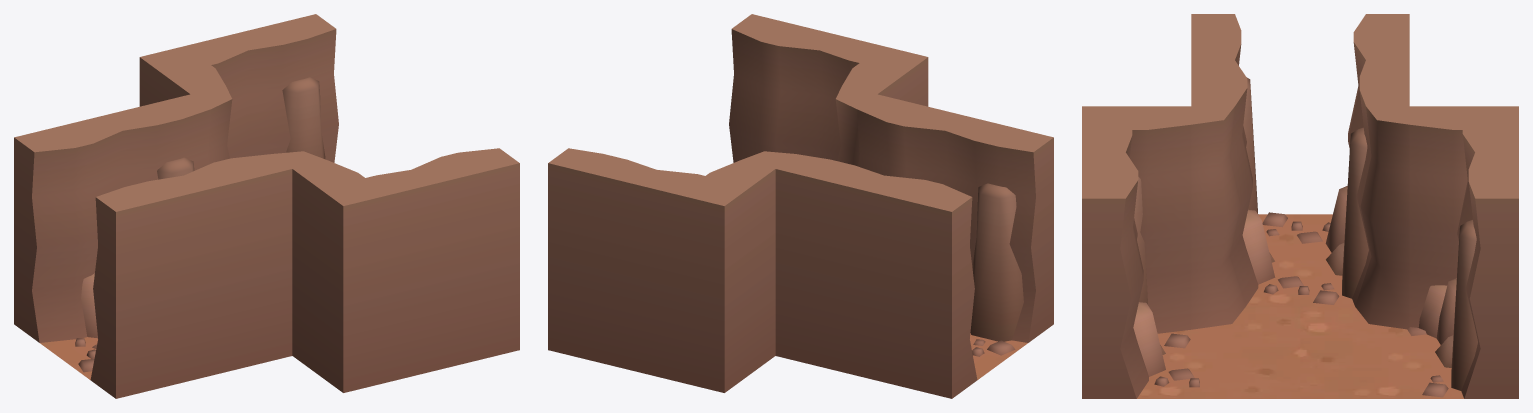
File: kenney-modular-cave-corridor.glb
3 renders of one model, left to right at view 1: azimuth 30°, elevation 25°; view 2: azimuth 150°, elevation 25°; view 3: azimuth 270°, elevation 25°, orthographic. The views are drawn at different scales.
Visible parts, largest first — view 1: corridor-transition; view 2: corridor-transition; view 3: corridor-transition.
Part boxes in pixels (x1,y1,x2,y2): corridor-transition: (14,14,519,398); corridor-transition: (548,14,1053,398); corridor-transition: (1082,14,1518,398).
Bounding box in the file's own units: 8 × 4.05 × 8.
Materials: 1 (1 with a texture image).
